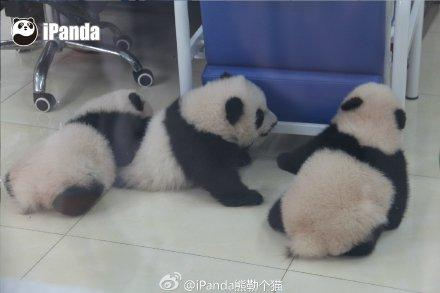panda: (273, 79, 409, 275), (127, 72, 279, 213), (2, 85, 152, 219)
